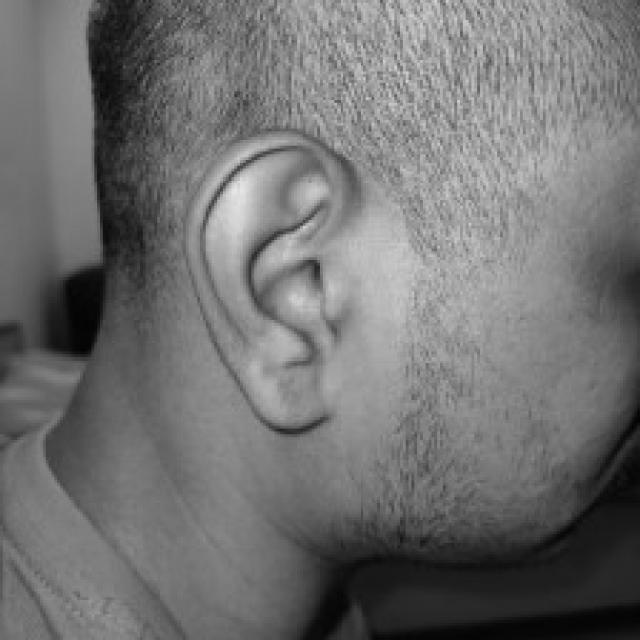ear: (186, 131, 351, 426)
